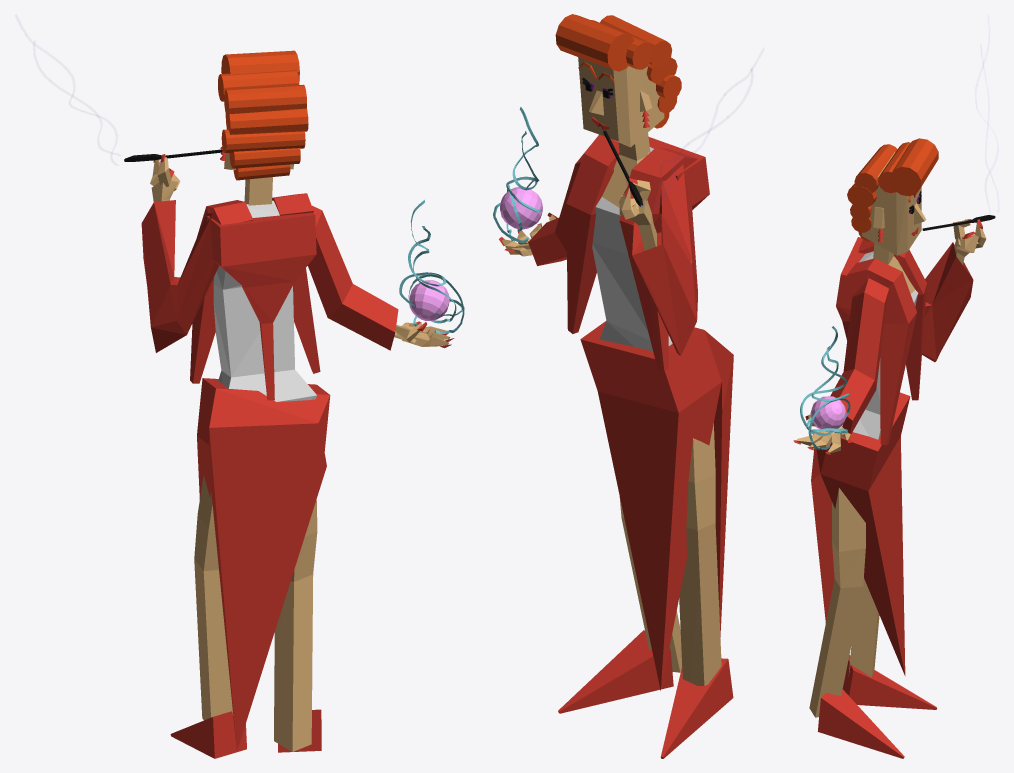
The model's file is asset.gltf.
3 views of the same model, side by side, from view 1: azimuth 30°, elevation 25°; view 2: azimuth 150°, elevation 25°; view 3: azimuth 270°, elevation 25° (orthographic). The views are drawn at different scales.
Visible parts, largest first — view 1: node_MeshObject-502384576-PolyPaper23, node_MeshObject-502728128-PolyGem25; view 2: node_MeshObject-502384576-PolyPaper23, node_MeshObject-502728128-PolyGem25; view 3: node_MeshObject-502384576-PolyPaper23, node_MeshObject-502728128-PolyGem25.
Part boxes in pixels (bbox=[...]): node_MeshObject-502384576-PolyPaper23: bbox=[124, 50, 464, 758]; node_MeshObject-502728128-PolyGem25: bbox=[409, 280, 449, 320]; node_MeshObject-502384576-PolyPaper23: bbox=[493, 14, 733, 758]; node_MeshObject-502728128-PolyGem25: bbox=[500, 187, 542, 229]; node_MeshObject-502384576-PolyPaper23: bbox=[793, 138, 995, 758]; node_MeshObject-502728128-PolyGem25: bbox=[810, 396, 846, 431].
Bounding box in the file's own units: 1.17 × 2.34 × 0.6832.
